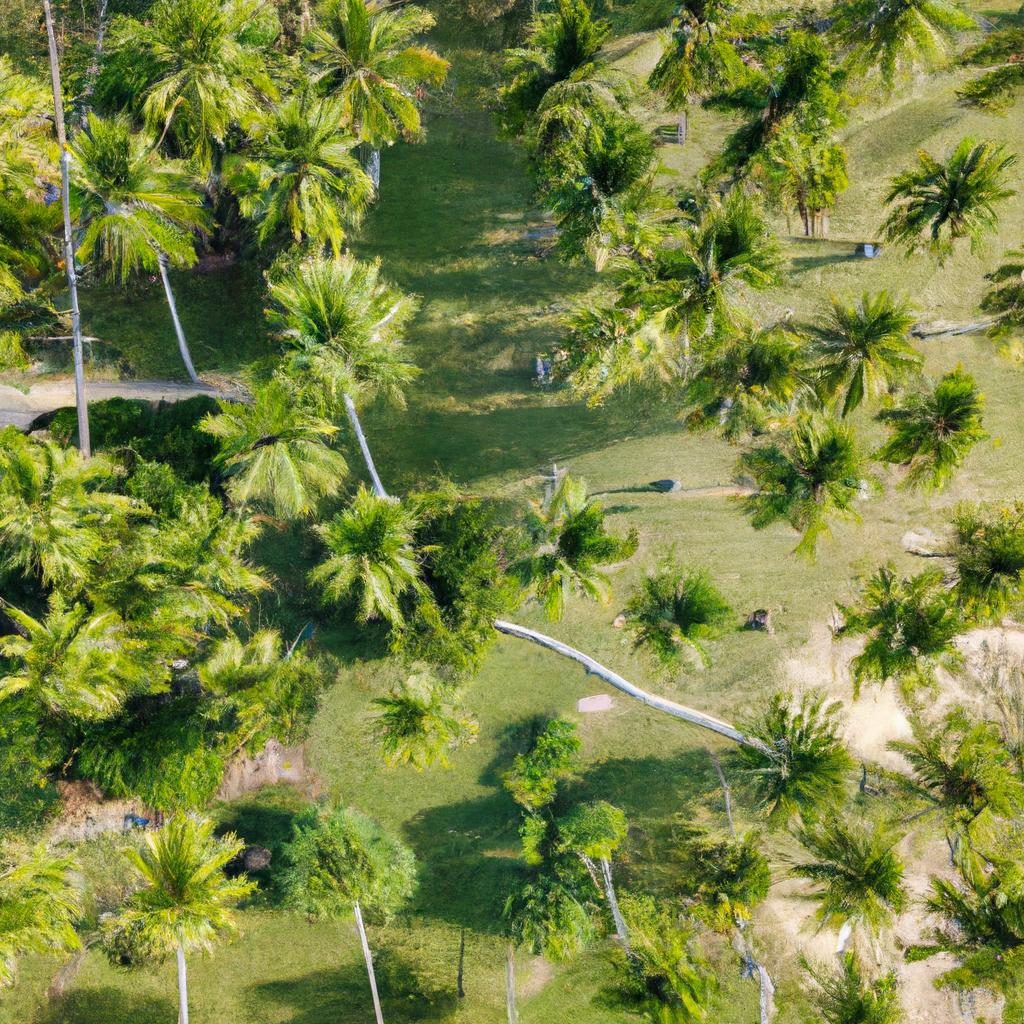coconut_tree: (246, 262, 448, 413), (48, 116, 224, 280), (273, 0, 442, 166), (304, 478, 465, 642), (100, 815, 264, 969), (213, 381, 373, 534), (732, 680, 888, 834), (505, 464, 662, 613), (884, 129, 1023, 267), (799, 281, 926, 411)
